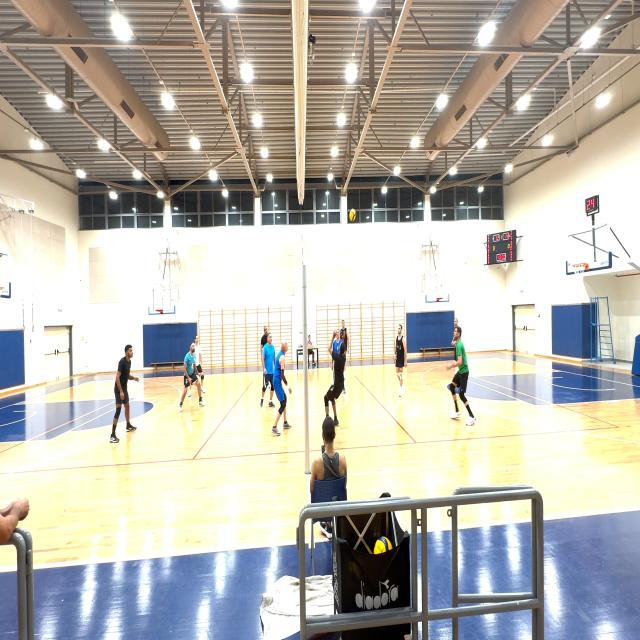volleyball: (373, 536, 392, 555), (348, 208, 356, 222)
